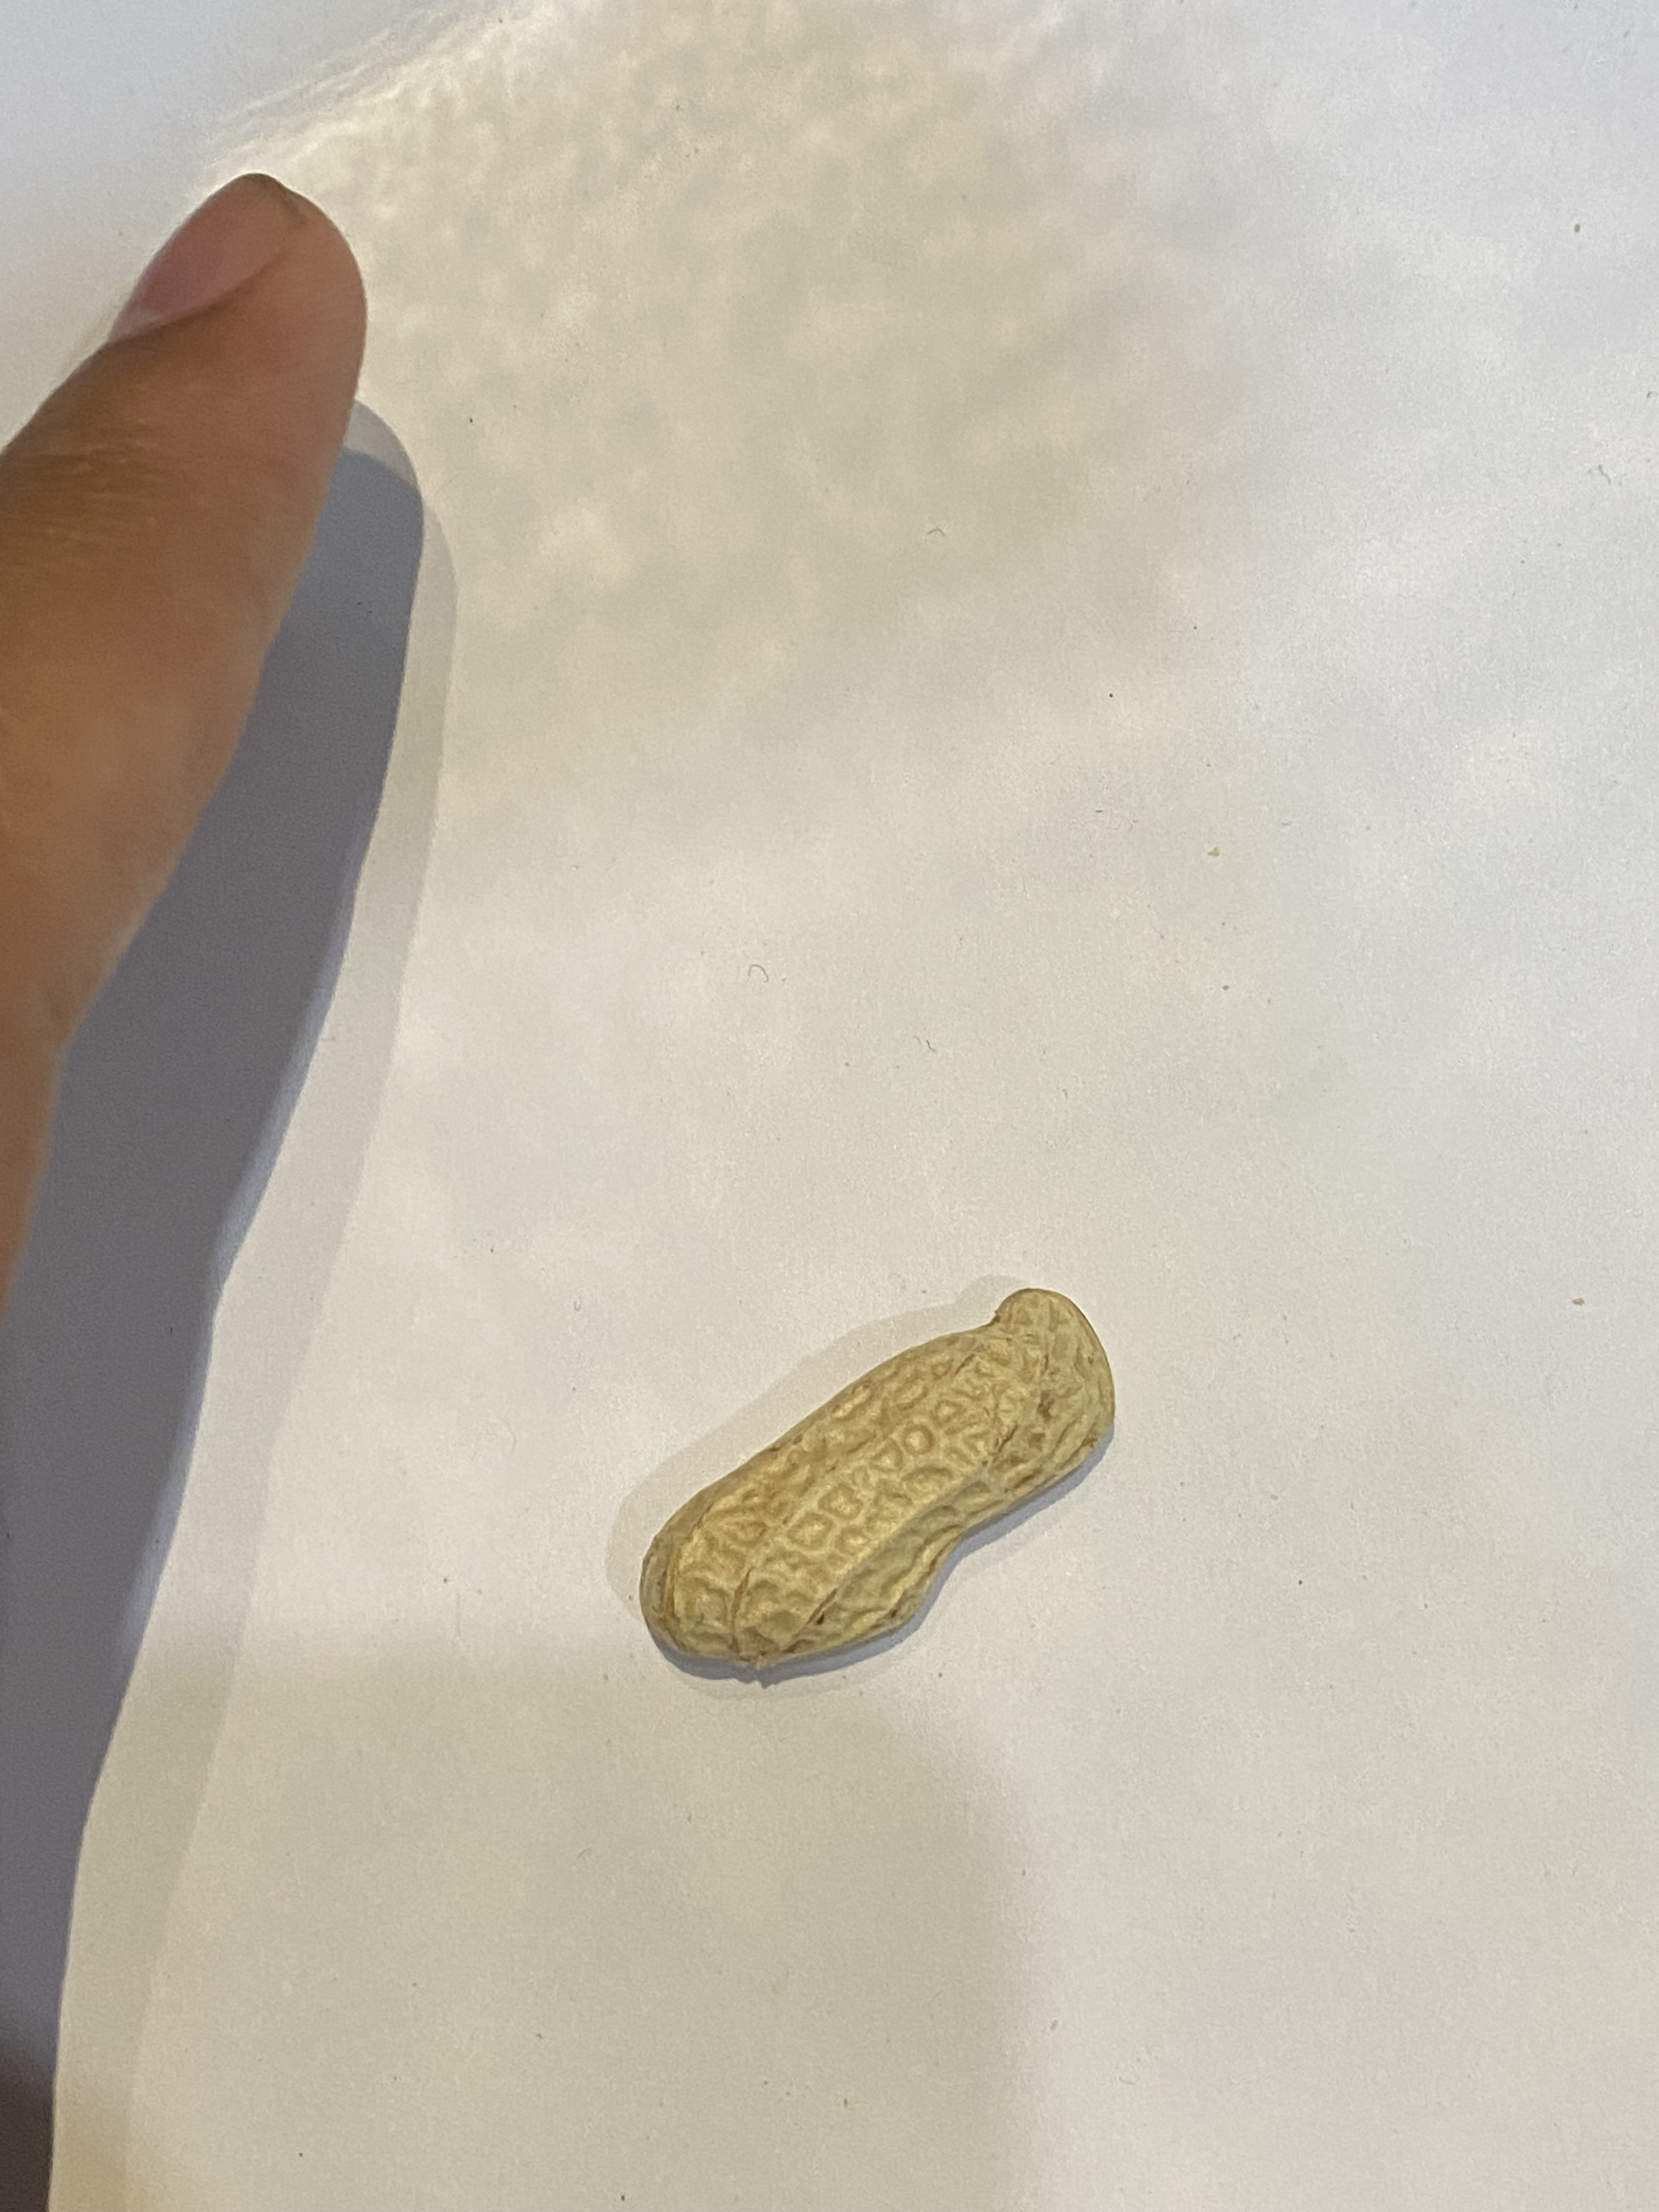kacang2: (626, 1261, 1133, 1679)
